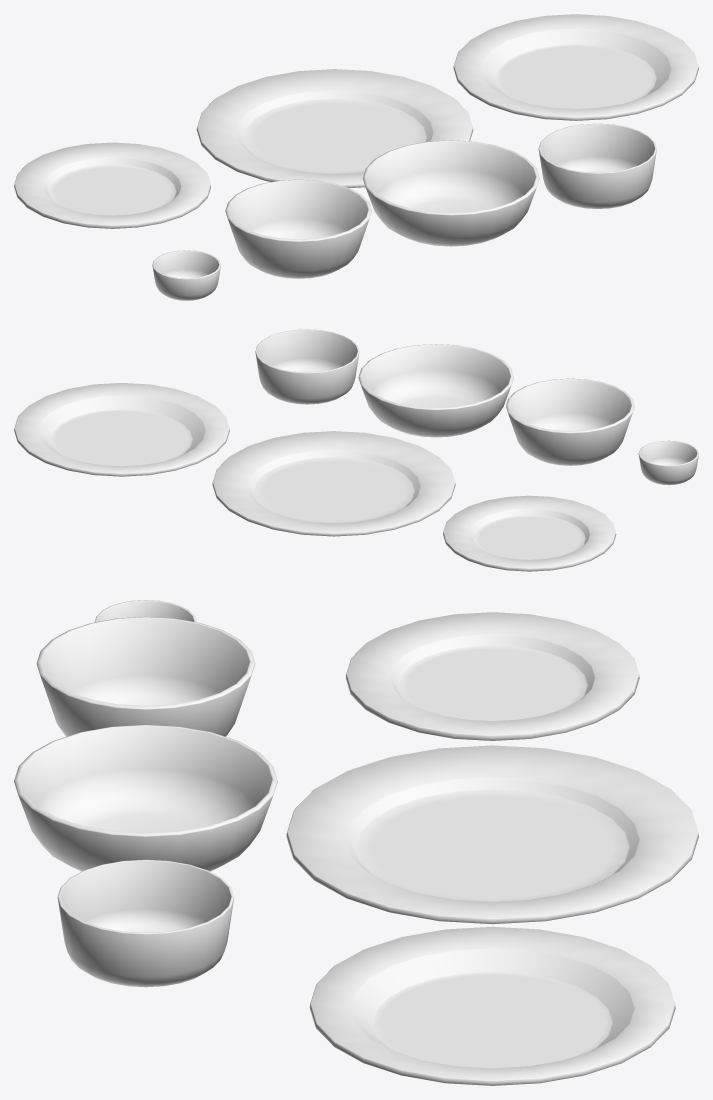
The model's file is Piring.fbx.
3 views of the same model, one above another, from view 1: azimuth 30°, elevation 25°; view 2: azimuth 150°, elevation 25°; view 3: azimuth 270°, elevation 25° (orthographic). The views are drawn at different scales.
Visible parts, largest first — view 1: Piring_L, Piring_M, Mangkok_L, Piring_S, Mangkok_M, Mangkok, Mangkok_S; view 2: Piring_L, Piring_M, Mangkok_L, Piring_S, Mangkok_M, Mangkok, Mangkok_S; view 3: Piring_L, Piring_M, Mangkok_L, Piring_S, Mangkok_M, Mangkok, Mangkok_S.
Part boxes in pixels (x1,y1,x2,y2): Piring_L: [196, 69, 473, 188]; Piring_M: [453, 14, 698, 120]; Mangkok_L: [362, 140, 539, 246]; Piring_S: [14, 142, 210, 228]; Mangkok_M: [225, 179, 371, 278]; Mangkok: [538, 123, 656, 208]; Mangkok_S: [152, 250, 220, 300]; Piring_L: [212, 431, 455, 536]; Piring_M: [14, 383, 229, 476]; Mangkok_L: [358, 344, 513, 437]; Piring_S: [443, 495, 616, 571]; Mangkok_M: [506, 378, 634, 465]; Mangkok: [255, 329, 359, 404]; Mangkok_S: [638, 440, 698, 485]; Piring_L: [286, 745, 698, 924]; Piring_M: [309, 926, 675, 1085]; Mangkok_L: [14, 724, 277, 871]; Piring_S: [345, 612, 639, 740]; Mangkok_M: [36, 616, 255, 736]; Mangkok: [57, 859, 234, 987]; Mangkok_S: [95, 600, 196, 622].
Bounding box in the file's own units: 77.03 × 6.32 × 46.77.
Materials: 1 (1 with a texture image).
